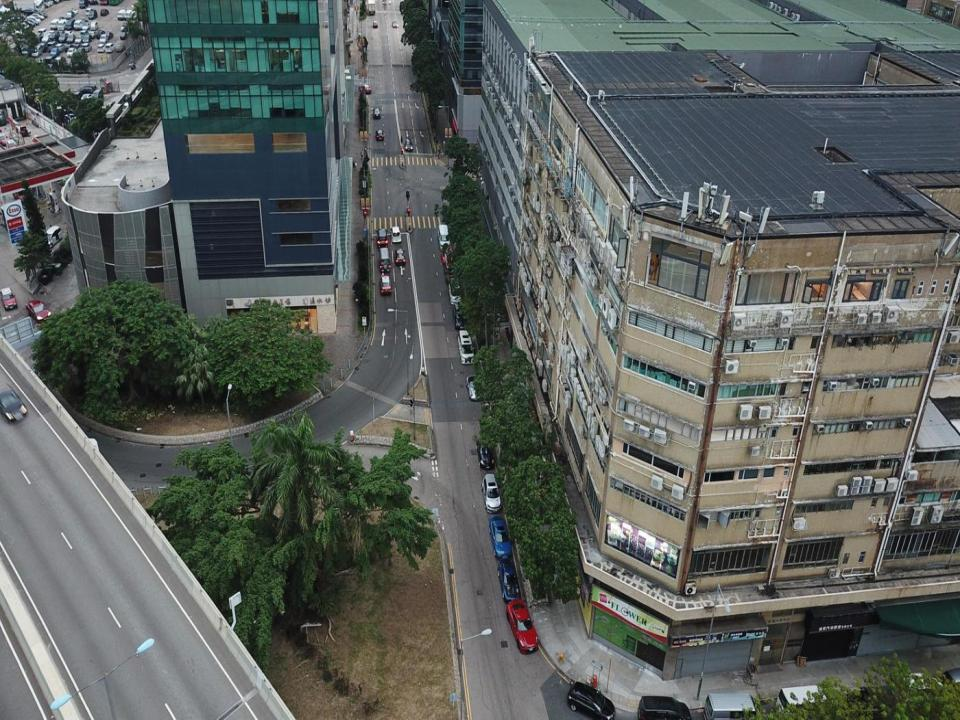car: (505, 600, 539, 654), (566, 683, 614, 718), (0, 380, 27, 425), (486, 514, 514, 556), (497, 558, 525, 598), (24, 298, 52, 320), (476, 441, 496, 470), (464, 376, 484, 401), (0, 287, 19, 311), (380, 275, 393, 293), (376, 227, 388, 245), (394, 247, 406, 264), (357, 82, 374, 93), (372, 106, 382, 119), (376, 127, 384, 143), (405, 137, 412, 152), (392, 19, 400, 29), (372, 20, 378, 28)
truck: (367, 1, 377, 15)
van: (703, 693, 761, 718), (634, 695, 693, 719), (482, 472, 504, 512), (456, 331, 475, 363), (44, 224, 63, 248), (377, 247, 392, 271), (437, 223, 450, 248), (391, 226, 401, 243)
